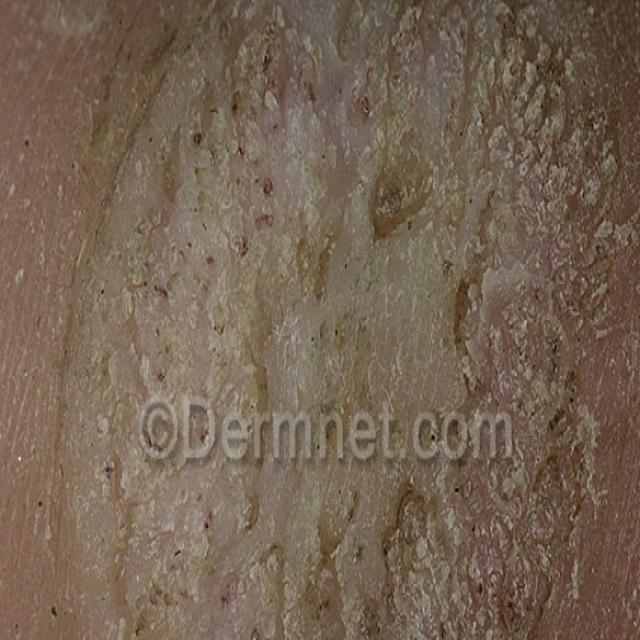Warts: (61, 0, 640, 640)
